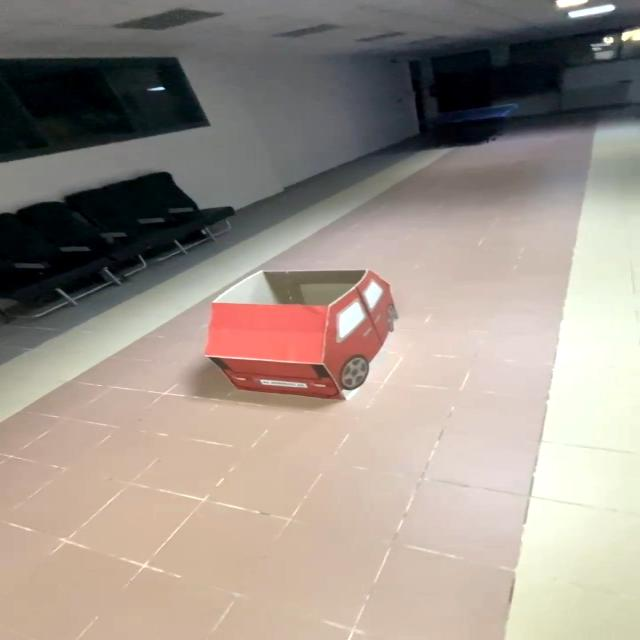red_car: (153, 247, 413, 419)
